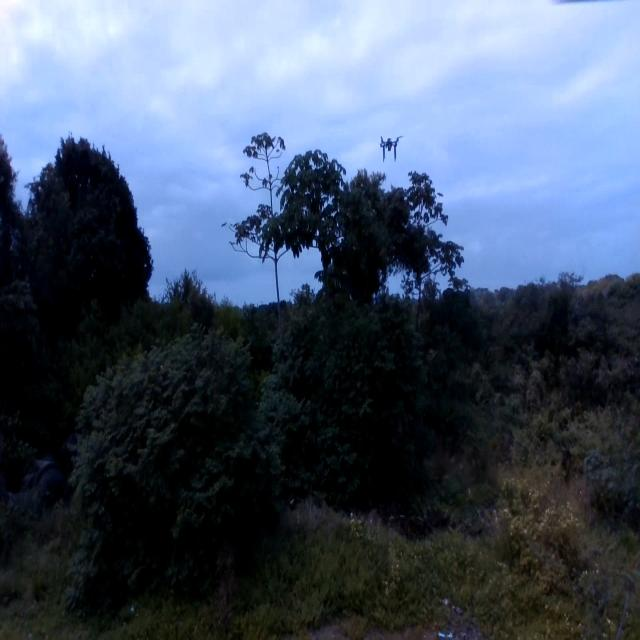-uav-: (376, 120, 402, 164)
